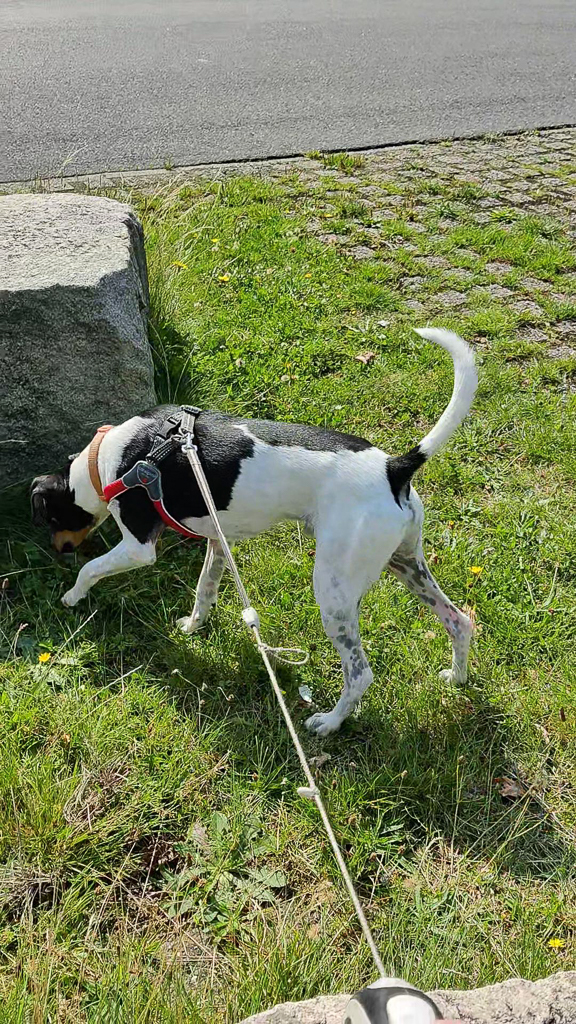Dog: (6, 286, 509, 745)
Humanoid: (414, 1007, 483, 1024)
